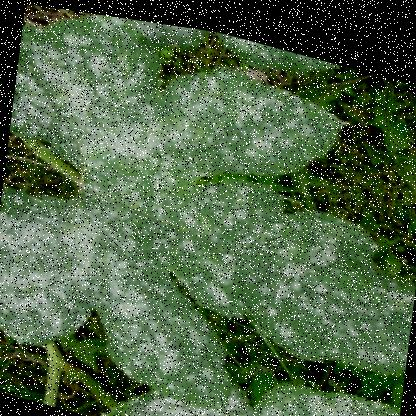PowderyMildew: (80, 159, 382, 333), (20, 41, 158, 168), (166, 62, 292, 167), (0, 219, 131, 312), (155, 393, 282, 415)
